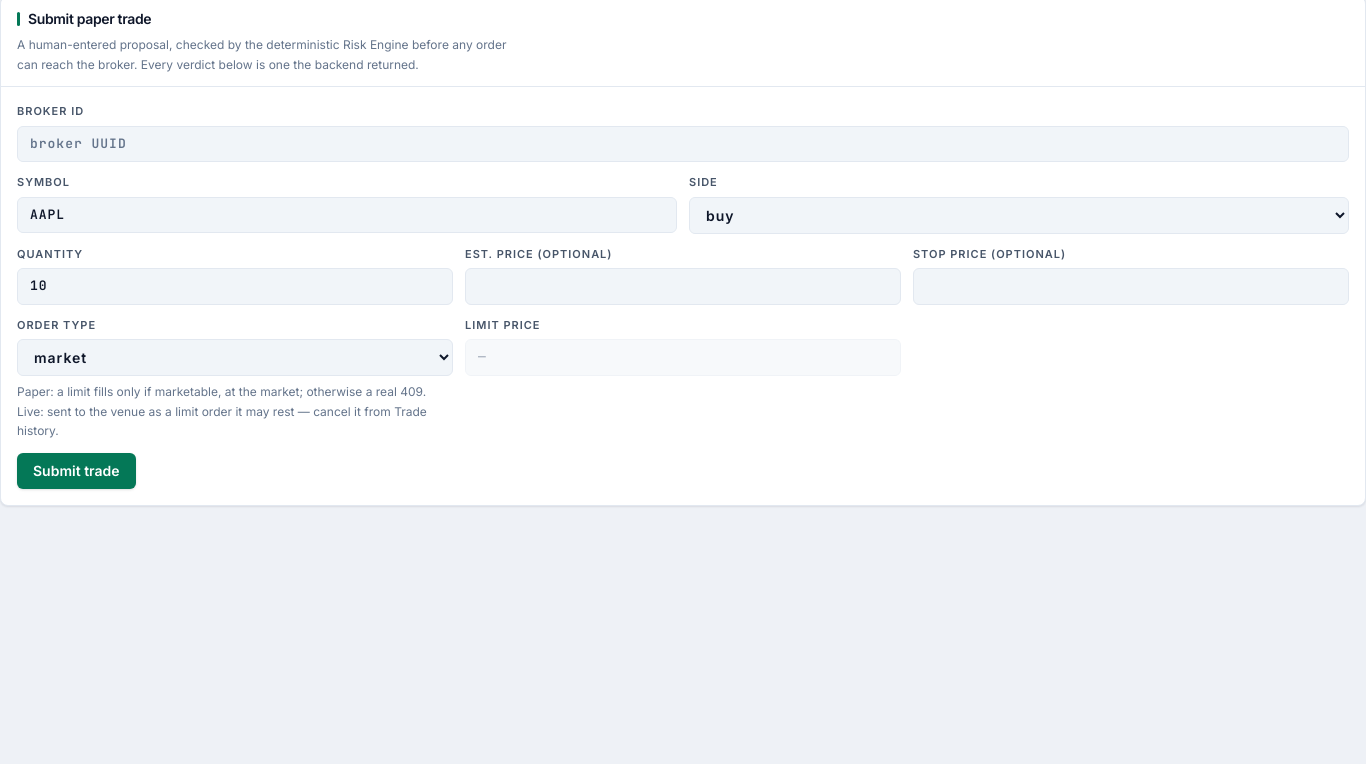
TradeForm › renders a 'modify' as a resize, with both quantities and the constraint
The width and height of the screenshot is (1366, 764).
Type "11111111-1111-1111-1111-111111111111" into the field labelled "Broker ID" at point(683, 144), box [17,126,1349,162]
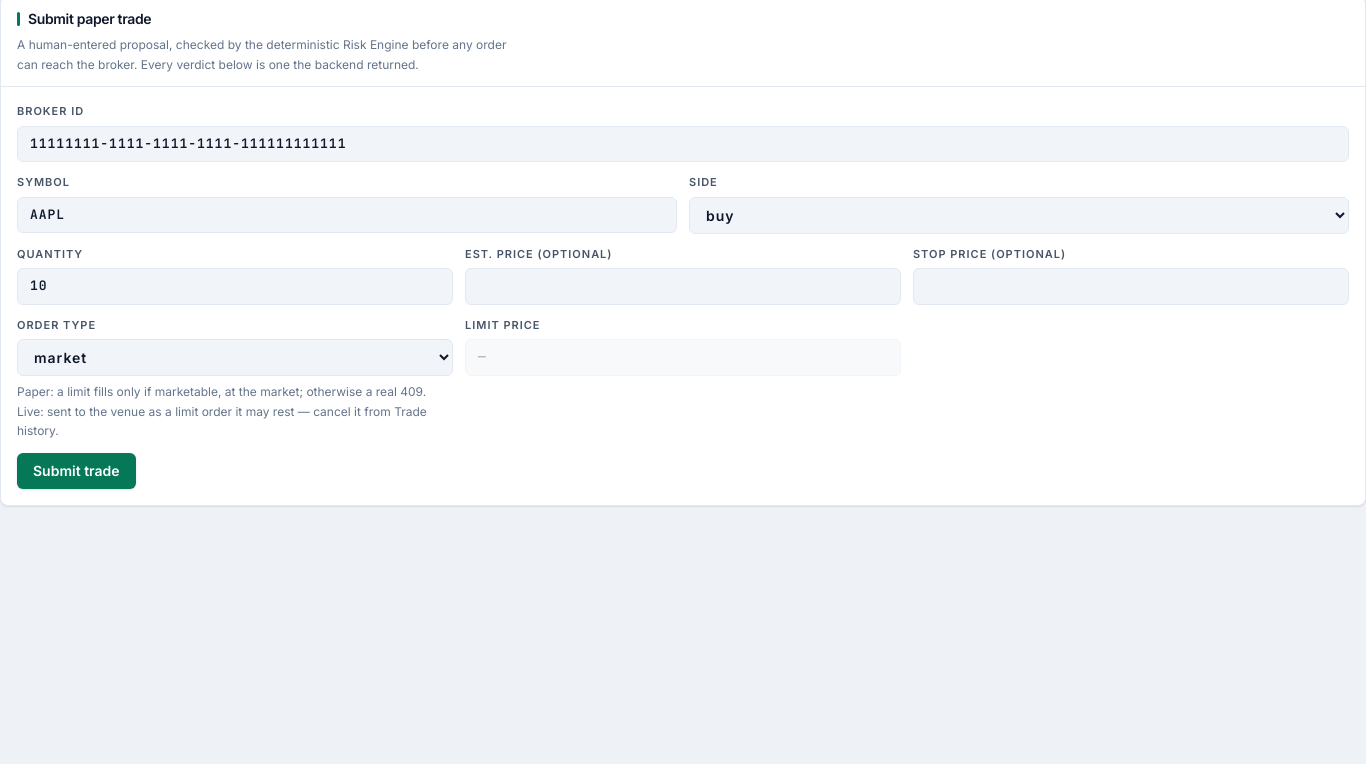
Click the button "Submit trade" at point(76, 471), box [17,453,136,489]
(page scrolled)
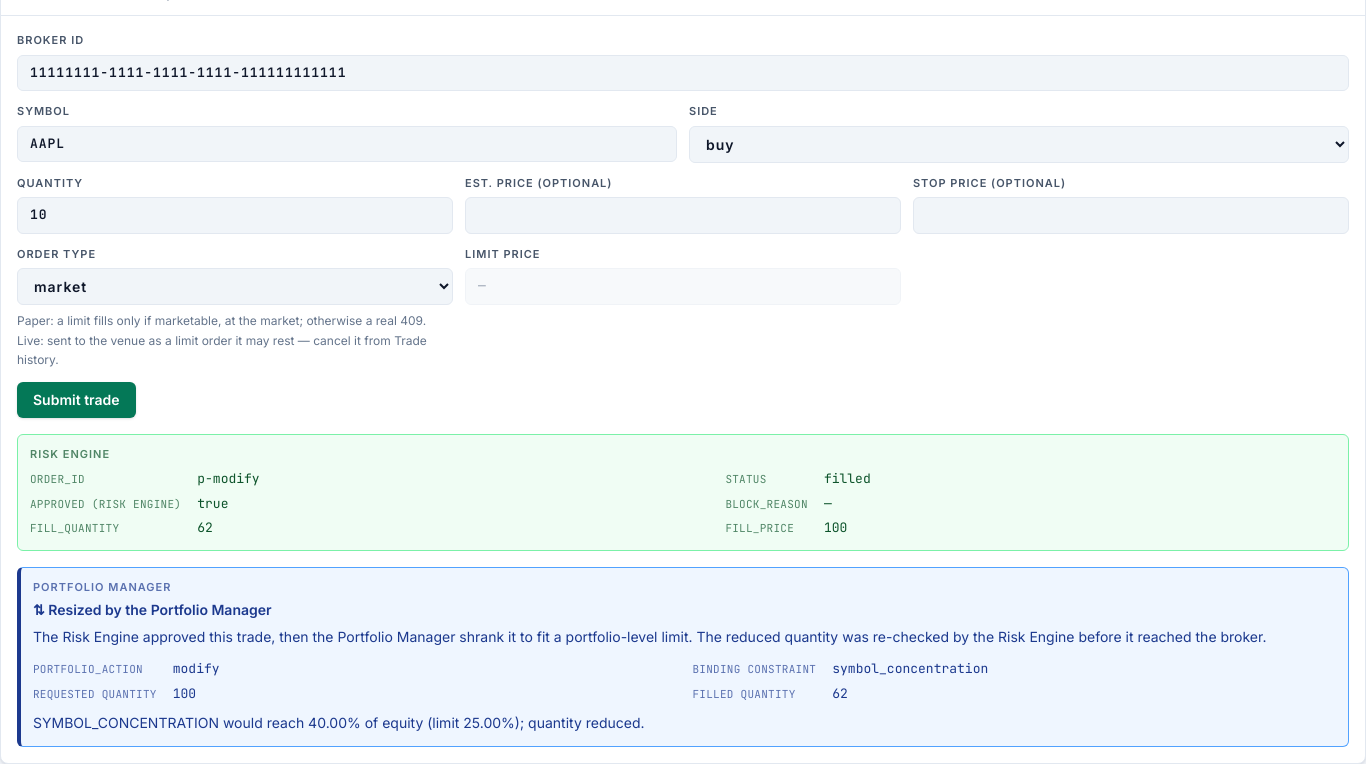
Check: the element with test id "risk-verdict" is shown, box [17,434,1349,551]
Check: the element with test id "portfolio-verdict" shows "Resized by the Portfolio Manager", box [33,601,272,618]
Check: the text with test id "portfolio-requested-quantity" reads "100", box [173,685,196,702]
